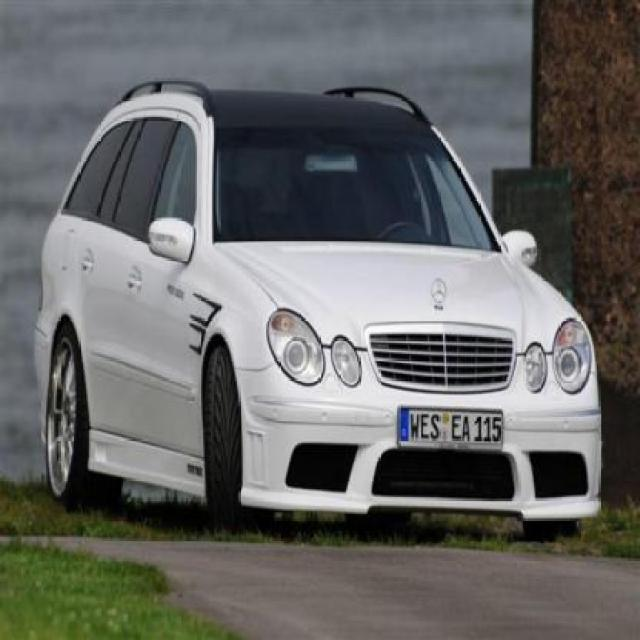License-Plates: (394, 410, 505, 444)
